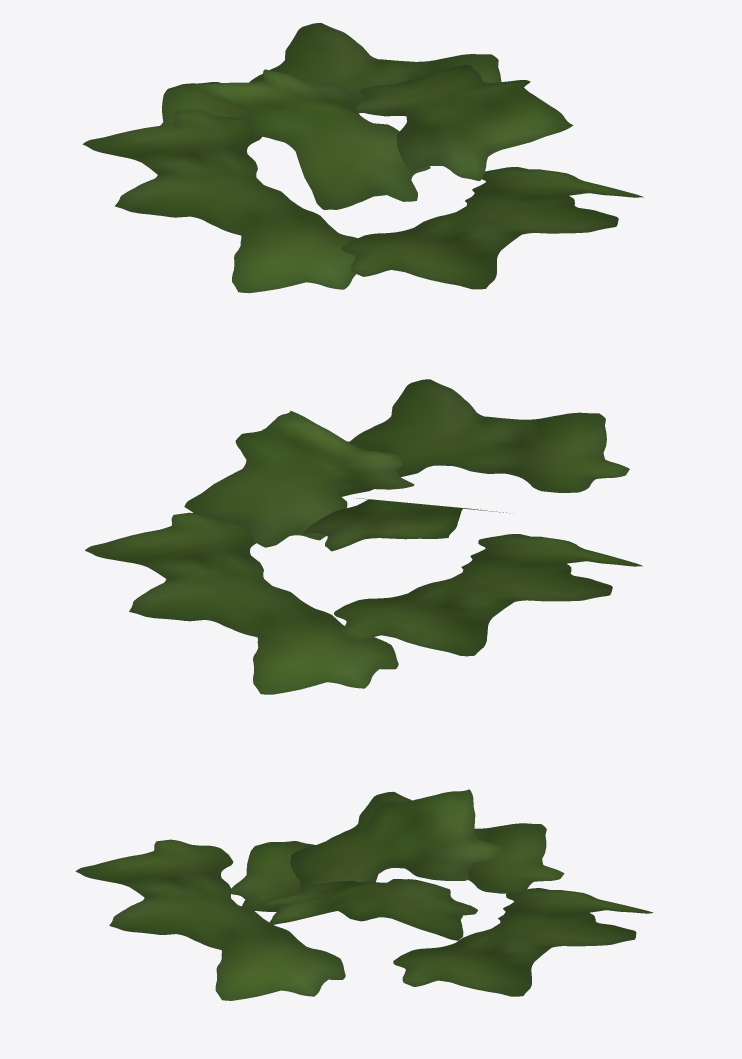
The model's file is Ivy2.fbx.
3 views of the same model, one above another, from view 1: azimuth 30°, elevation 25°; view 2: azimuth 150°, elevation 25°; view 3: azimuth 270°, elevation 25° (orthographic). The views are drawn at different scales.
Parts seen in each view (by area): view 1: Ivy2; view 2: Ivy2; view 3: Ivy2.
Boxes of the visible parts, x1,y1,x2,y2 form: Ivy2: (82,23,643,293); Ivy2: (85,379,642,694); Ivy2: (75,789,653,1000).
Bounding box in the file's own units: 121 × 27.25 × 160.
1 material, 1 textured.
